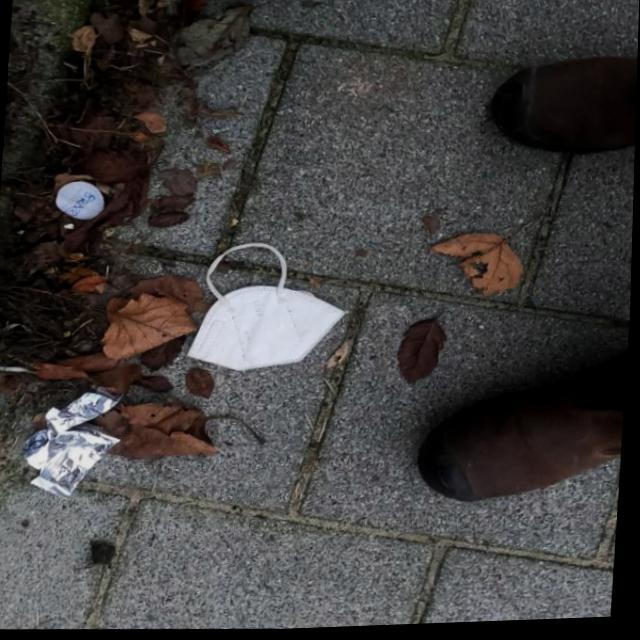Mask: (183, 237, 354, 379)
Plastic: (19, 381, 128, 505)
